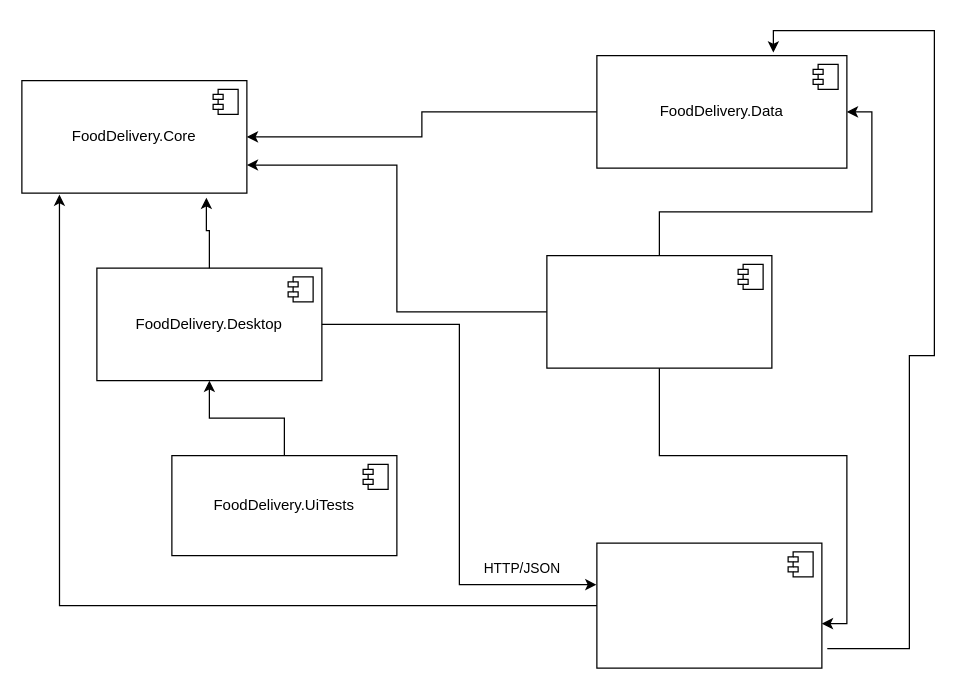
Some shapes in this 966 by 690 pixel diagram are drawn without their labels. Each missing label, with the centre of its shape:
"FoodDelivery.Api" goes at (x=709, y=605).
"FoodDelivery.Tests" goes at (x=659, y=311).
